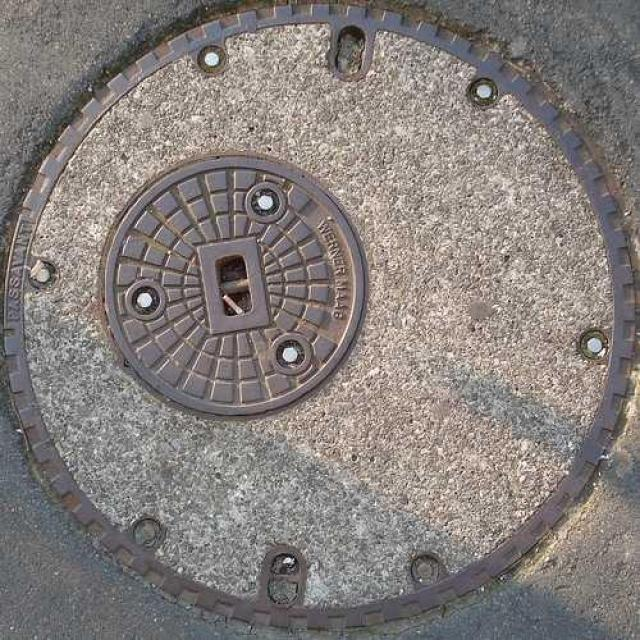manhole: (5, 5, 634, 628)
